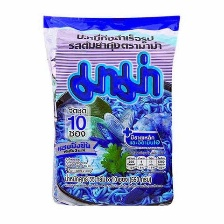snack: (35, 8, 187, 212)
